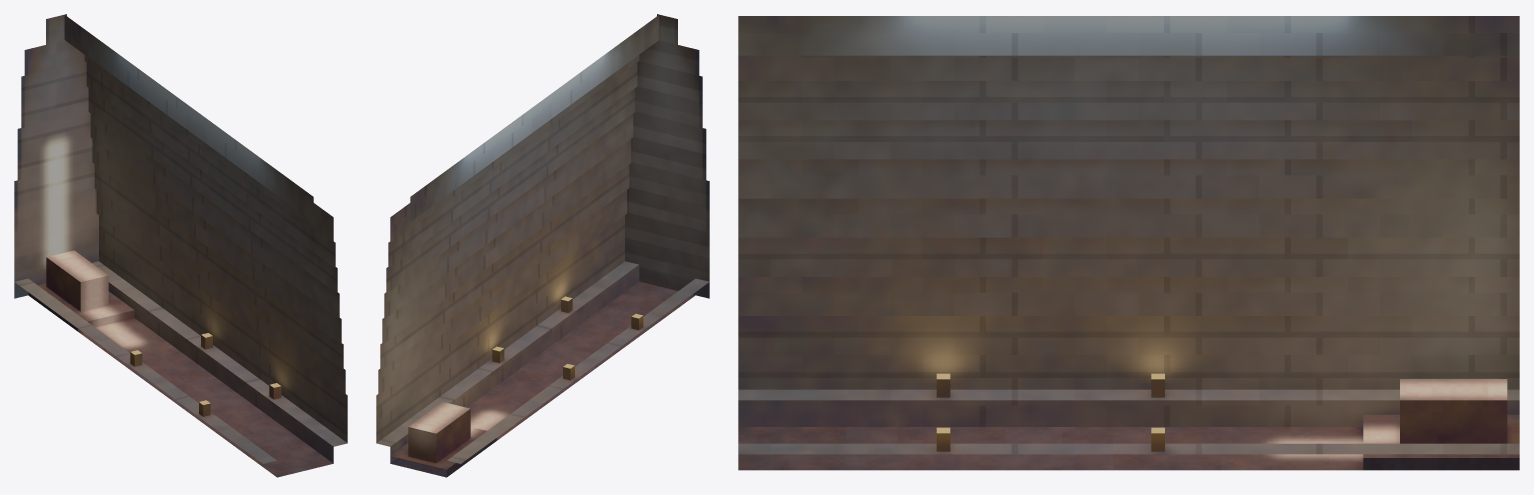
File: gallery.glb
3 views of the same model, side by side, from view 1: azimuth 30°, elevation 25°; view 2: azimuth 150°, elevation 25°; view 3: azimuth 270°, elevation 25° (orthographic). The views are drawn at different scales.
Parts seen in each view (by area): view 1: Walls, Floor, Sarcophagus, Braziers; view 2: Walls, Floor, Sarcophagus, Braziers; view 3: Walls, Floor, Sarcophagus, Braziers.
Part boxes in pixels (box(x1,y1,x2,y2)): Walls: box(14, 14, 347, 463); Floor: box(28, 283, 333, 477); Sarcophagus: box(46, 250, 108, 311); Braziers: box(130, 333, 281, 416); Walls: box(376, 14, 709, 463); Floor: box(390, 281, 695, 477); Sarcophagus: box(408, 402, 470, 463); Braziers: box(492, 296, 643, 380); Walls: box(738, 16, 1519, 454); Floor: box(738, 414, 1519, 470); Sarcophagus: box(1400, 379, 1507, 443); Braziers: box(936, 373, 1164, 451).
Size of the model in its own units: 3.14 by 9.64 by 16.
